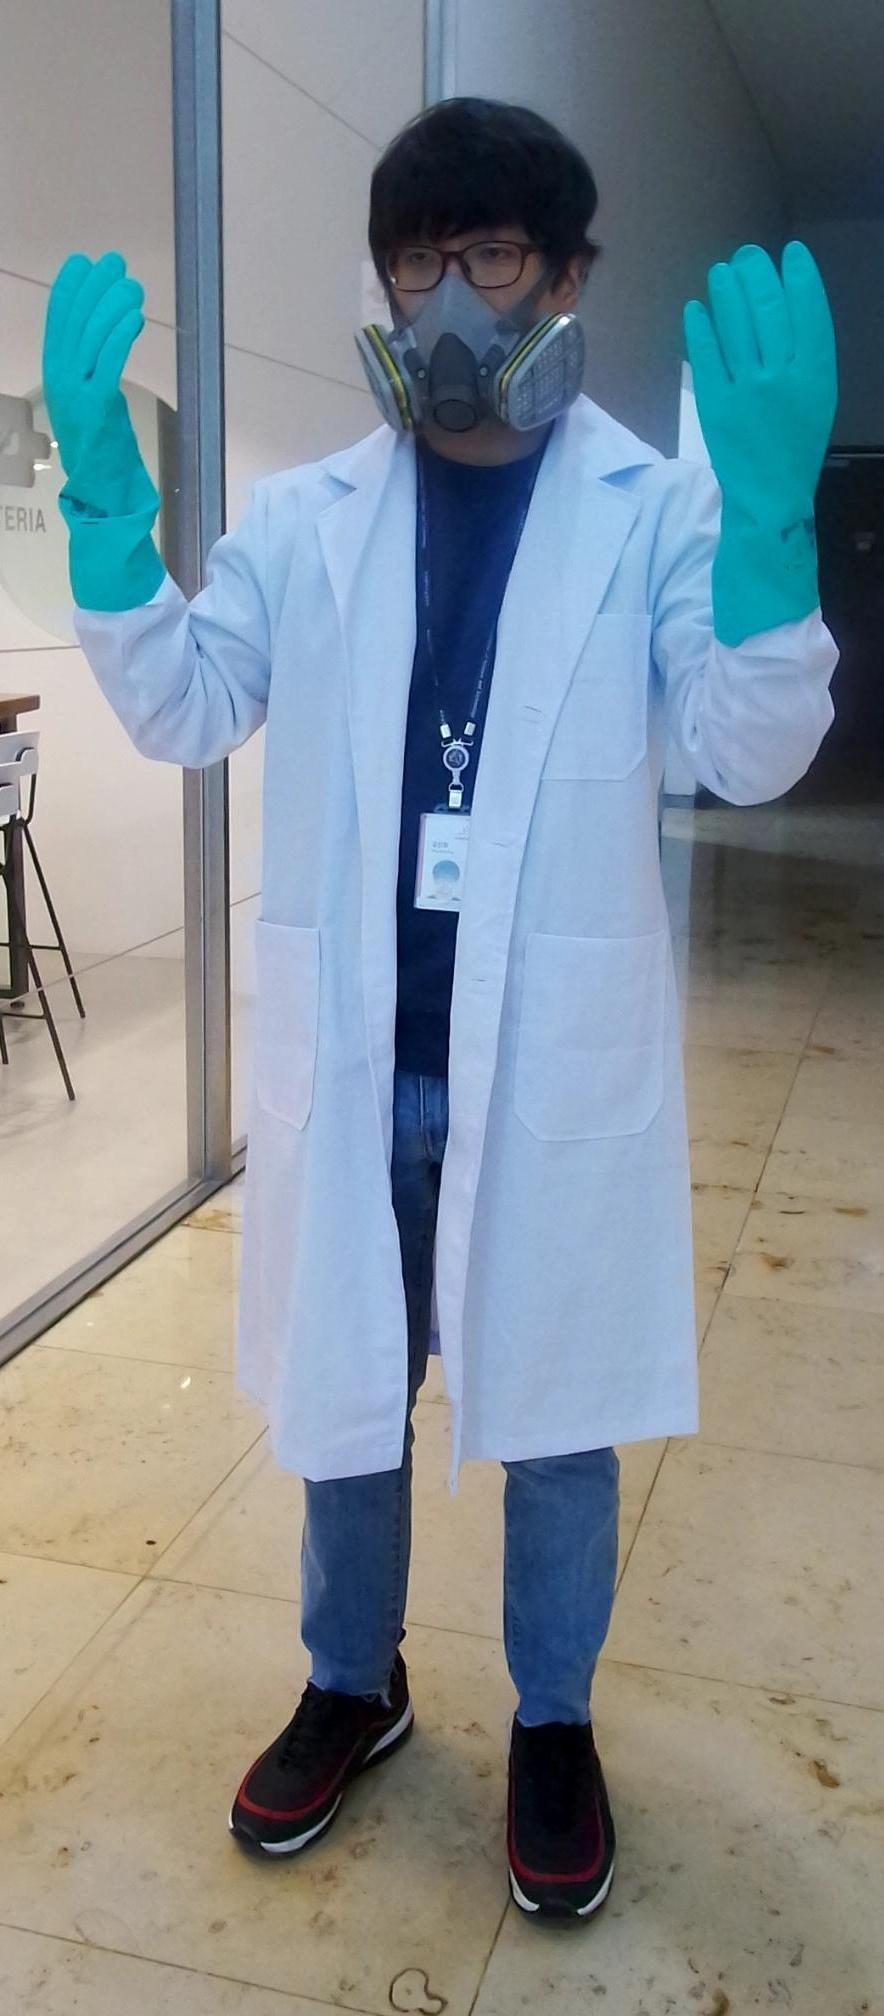lab_coat: (234, 465, 702, 1462)
